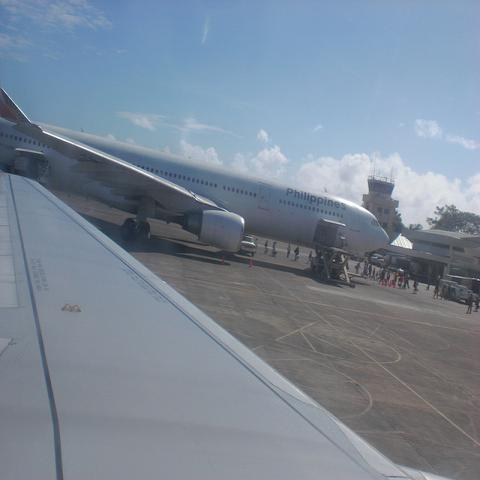car: (239, 236, 257, 257)
truck: (439, 279, 478, 301)
